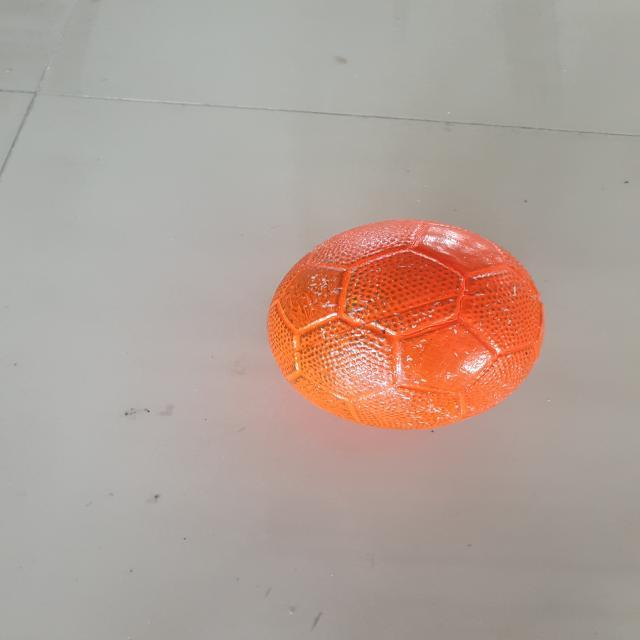bola: (247, 205, 564, 440)
